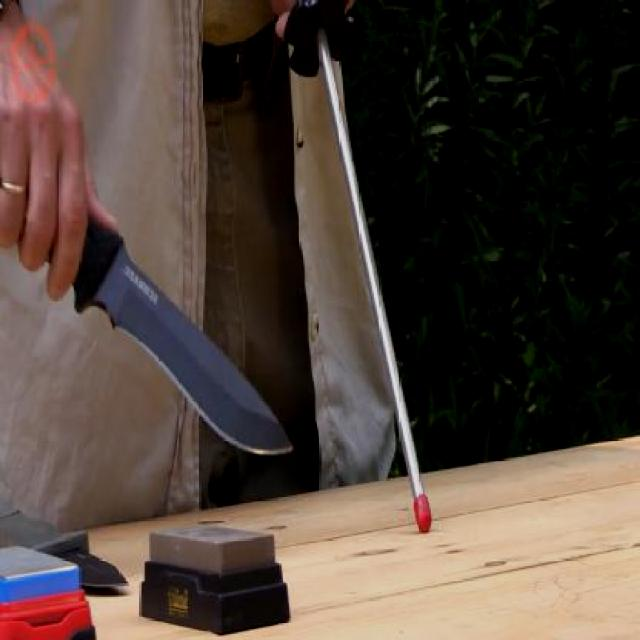knife: (0, 146, 305, 474)
